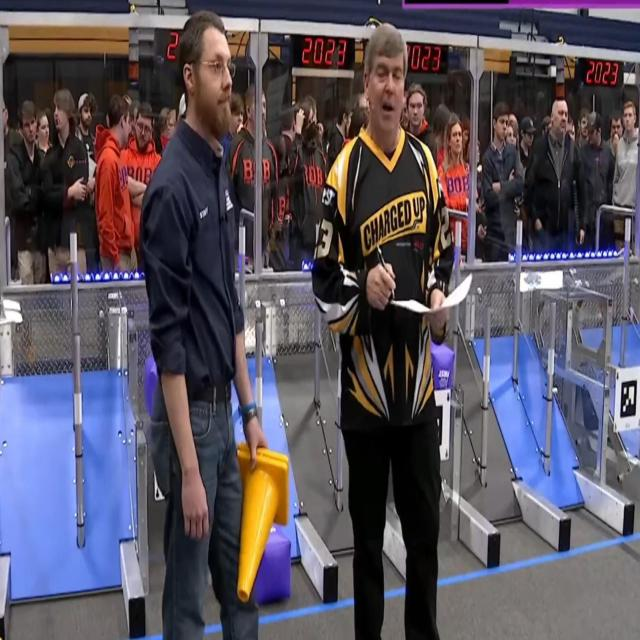frc_cone: (235, 440, 289, 603)
frc_cube: (255, 526, 290, 603), (146, 357, 166, 419), (429, 341, 453, 391)
